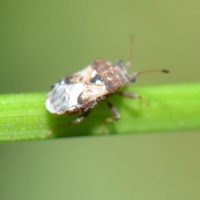insect: (46, 59, 168, 122)
